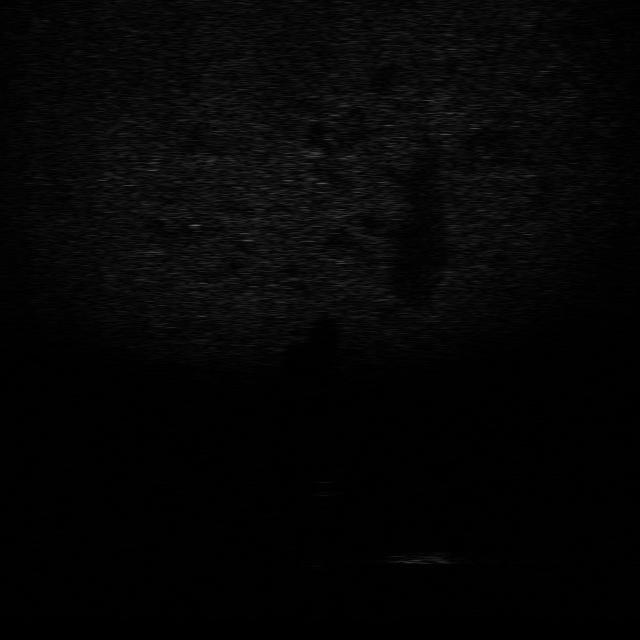ball: (310, 477, 348, 500)
metal bucket: (382, 543, 457, 570)
tyre: (282, 542, 344, 577)
